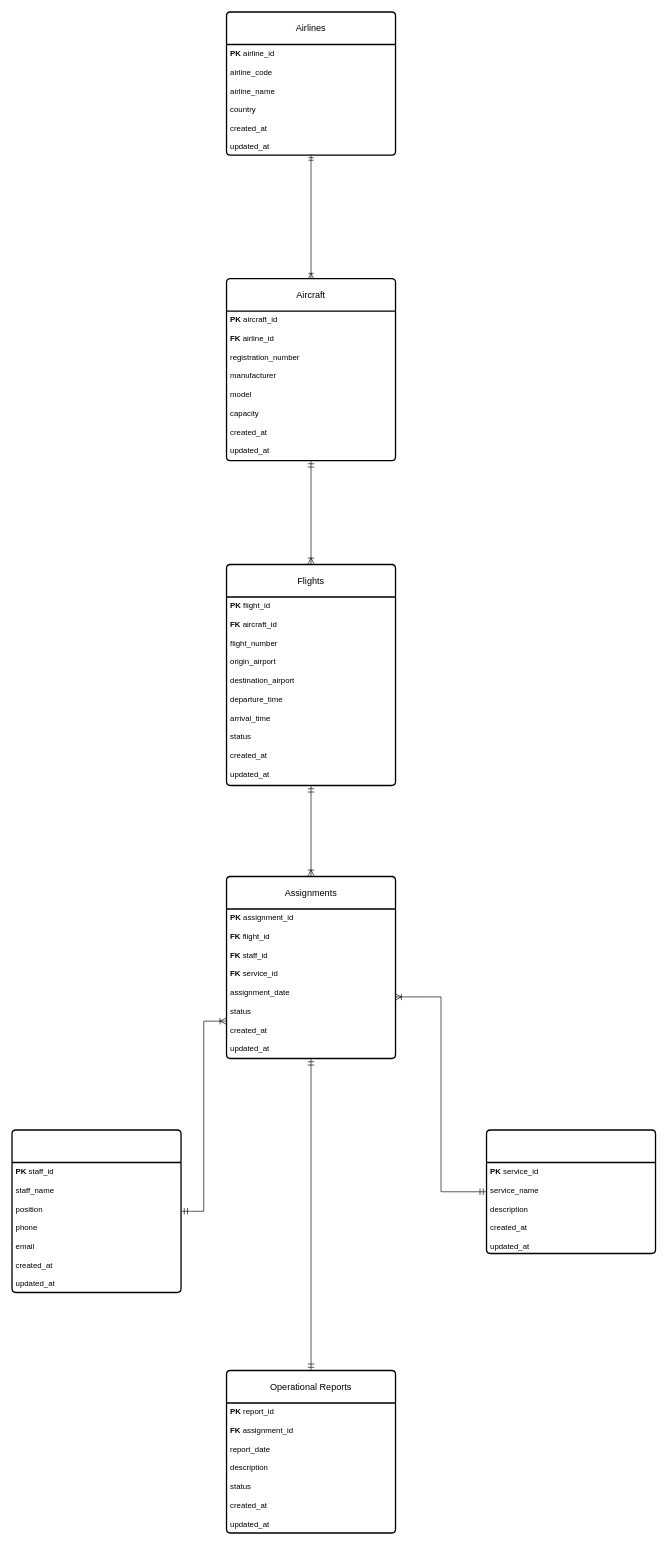
This 667x1544 diagram has some shape labels left out. The shapes that lost their labels are listed below. From the top down, each one's box as (x1, y1, x2, y2) in pixels, then its label:
(11, 1129, 181, 1293): Ground Staff
(486, 1129, 656, 1254): Ground Handling Services
